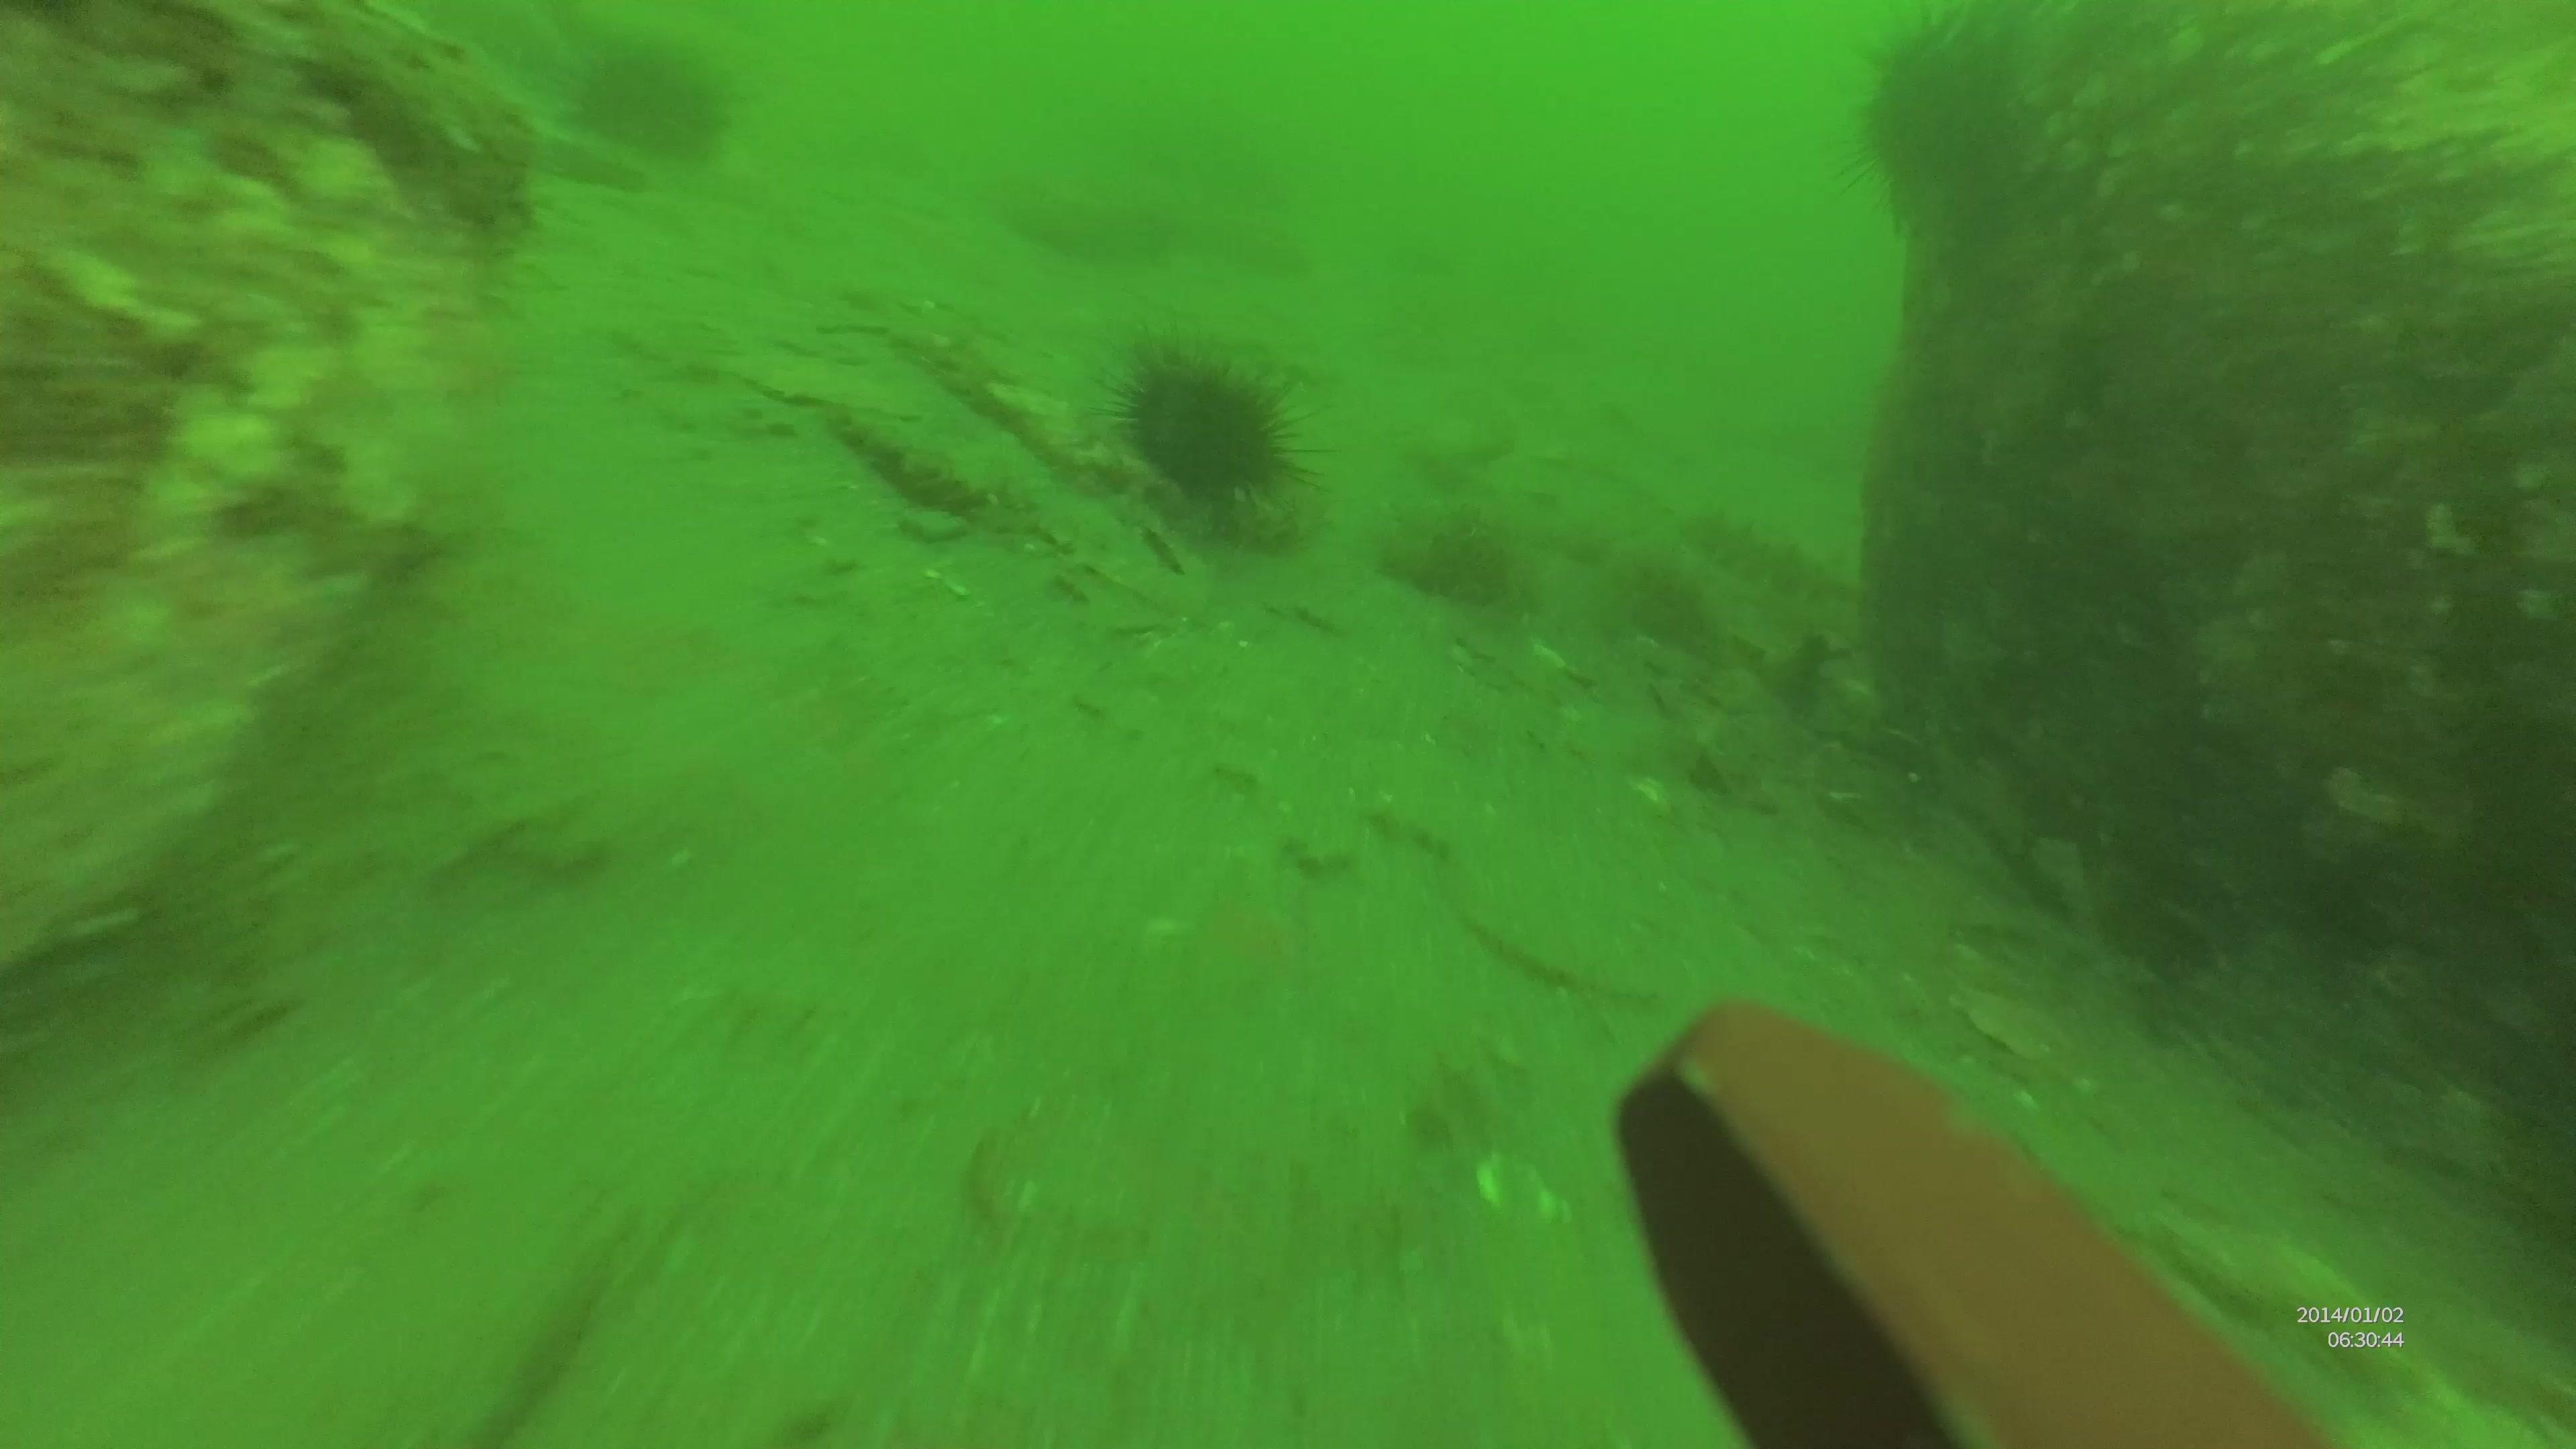echinus: (1844, 11, 2054, 232), (1095, 331, 1304, 494), (564, 35, 741, 173)
